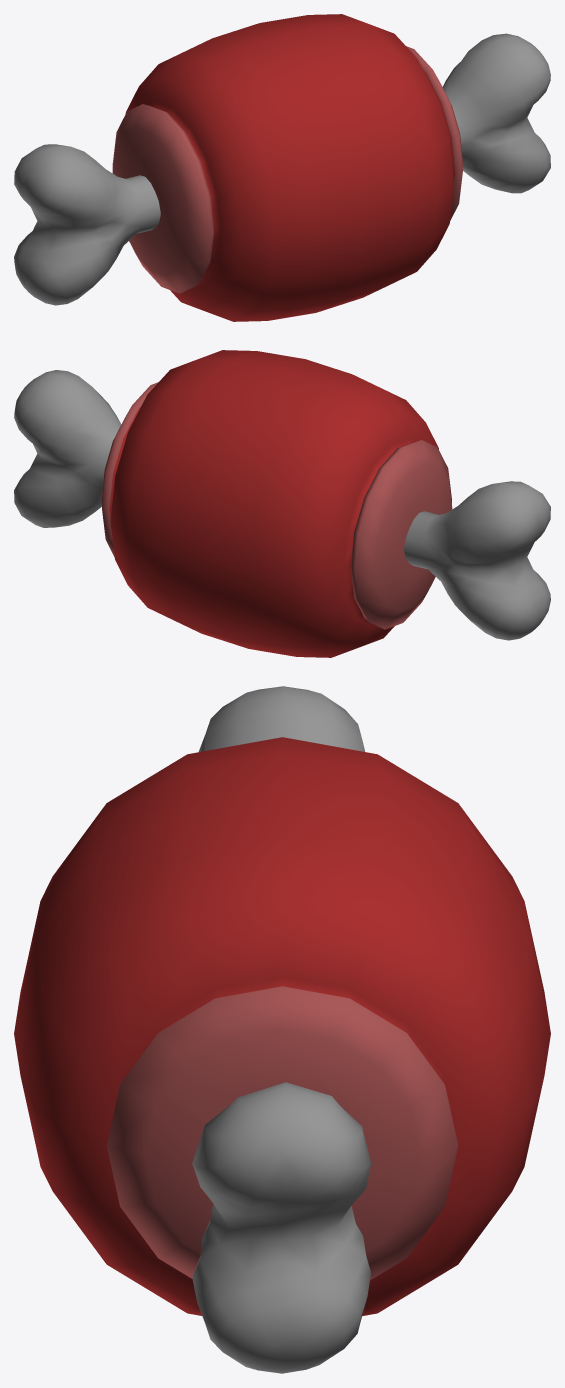
File: Meat.FBX
3 views of the same model, one above another, from view 1: azimuth 30°, elevation 25°; view 2: azimuth 150°, elevation 25°; view 3: azimuth 270°, elevation 25° (orthographic). The views are drawn at different scales.
Visible parts, largest first — view 1: Meat; view 2: Meat; view 3: Meat.
Boxes of the visible parts, x1,y1,x2,y2 form: Meat: (14,14,550,321); Meat: (14,350,550,657); Meat: (14,686,550,1373).
Size of the model in its own units: 1367 by 680 by 680.
